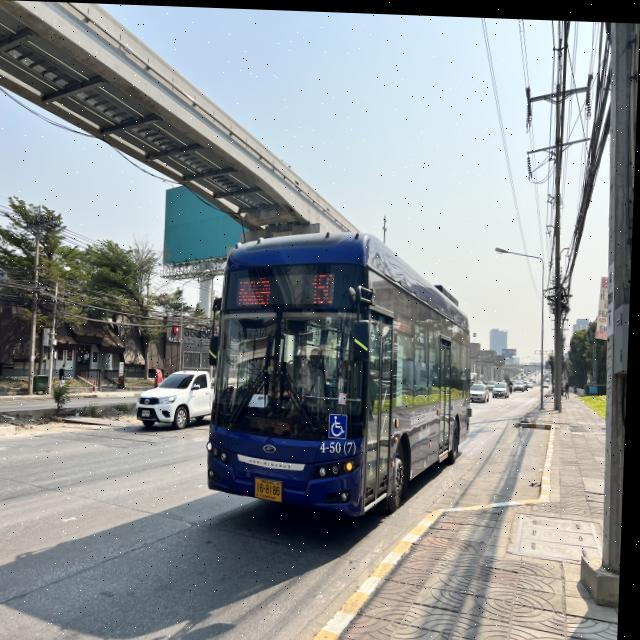Bus Line Number: (310, 265, 344, 307)
Bus Side Number: (321, 435, 361, 454)
Destination Sign: (237, 273, 275, 308)
TSB-Bus: (209, 230, 476, 517)
